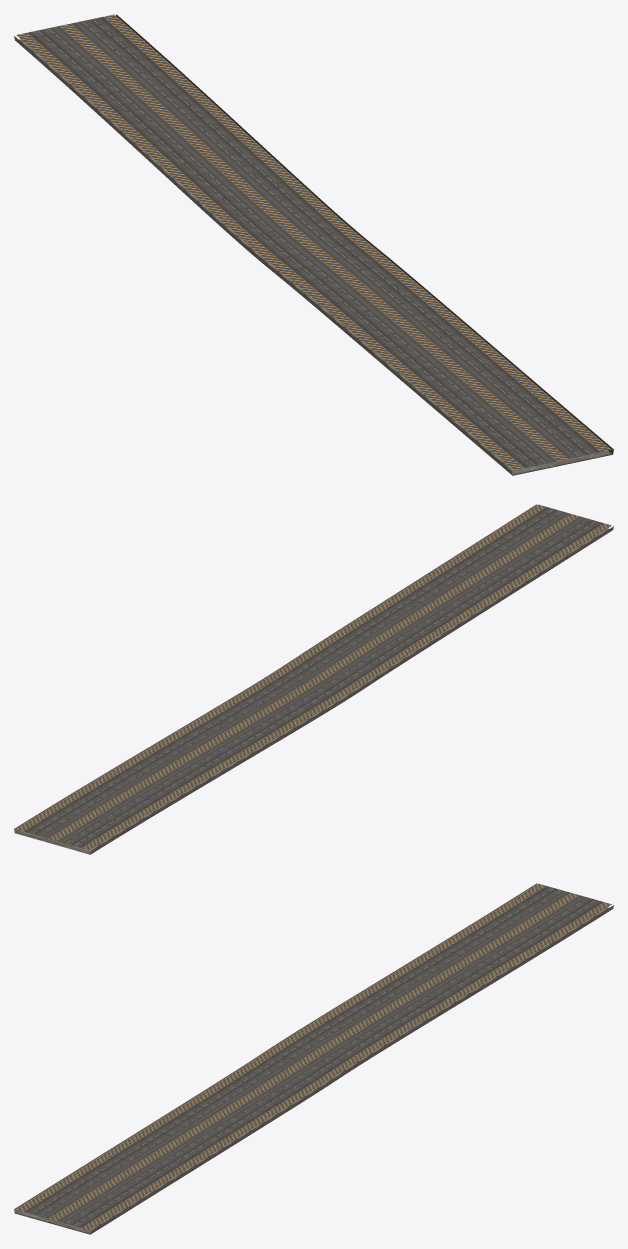
The model's file is road.fbx.
3 views of the same model, one above another, from view 1: azimuth 30°, elevation 25°; view 2: azimuth 150°, elevation 25°; view 3: azimuth 330°, elevation 25° (orthographic). The views are drawn at different scales.
Visible parts, largest first — view 1: city_part_highway16; view 2: city_part_highway16; view 3: city_part_highway16.
Boxes of the visible parts, x1,y1,x2,y2 form: city_part_highway16: (14,14,613,475); city_part_highway16: (14,504,613,854); city_part_highway16: (14,883,613,1234).
Bounding box in the file's own units: 7077 × 301 × 41200.
Materials: 3 (3 with a texture image).
